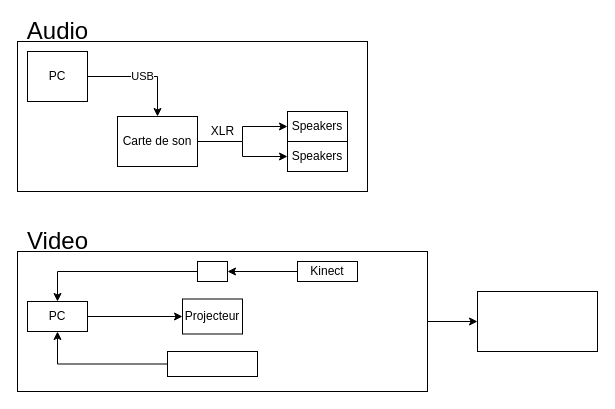
Some shapes in this 615 by 409 pixel diagram are drawn without their labels. The shapes that lost their labels are listed below. From the top down, each one's centre as x and y in pixels, then its label:
At pixel 212 271: "Pi".
At pixel 537 321: "PC Salle matrice".
At pixel 212 363: "Webcam".
